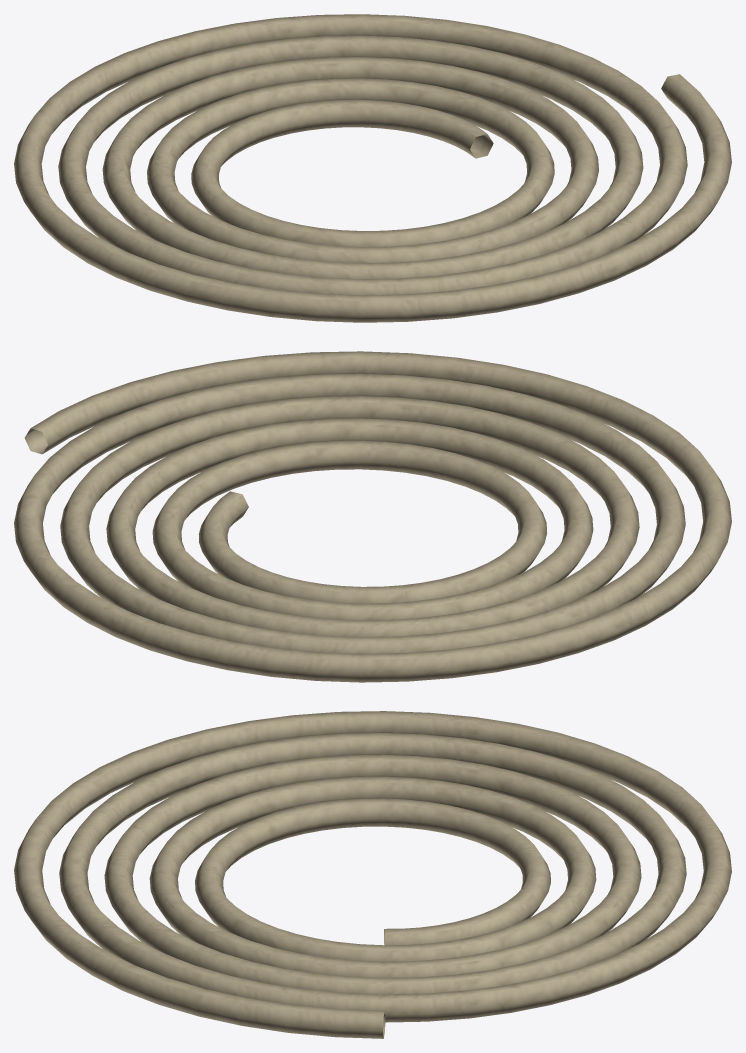
File: Rope_Coil.gltf
The picture shows the model from 3 angles, top to bottom: view 1: azimuth 30°, elevation 25°; view 2: azimuth 150°, elevation 25°; view 3: azimuth 270°, elevation 25°; orthographic projection. The views are drawn at different scales.
Parts seen in each view (by area): view 1: Rope_Coil; view 2: Rope_Coil; view 3: Rope_Coil.
Boxes of the visible parts, x1,y1,x2,y2 form: Rope_Coil: (14,14,731,322); Rope_Coil: (14,351,731,682); Rope_Coil: (14,711,731,1038).
Bounding box in the file's own units: 0.4716 × 0.0252 × 0.4572.
1 material, 1 textured.
